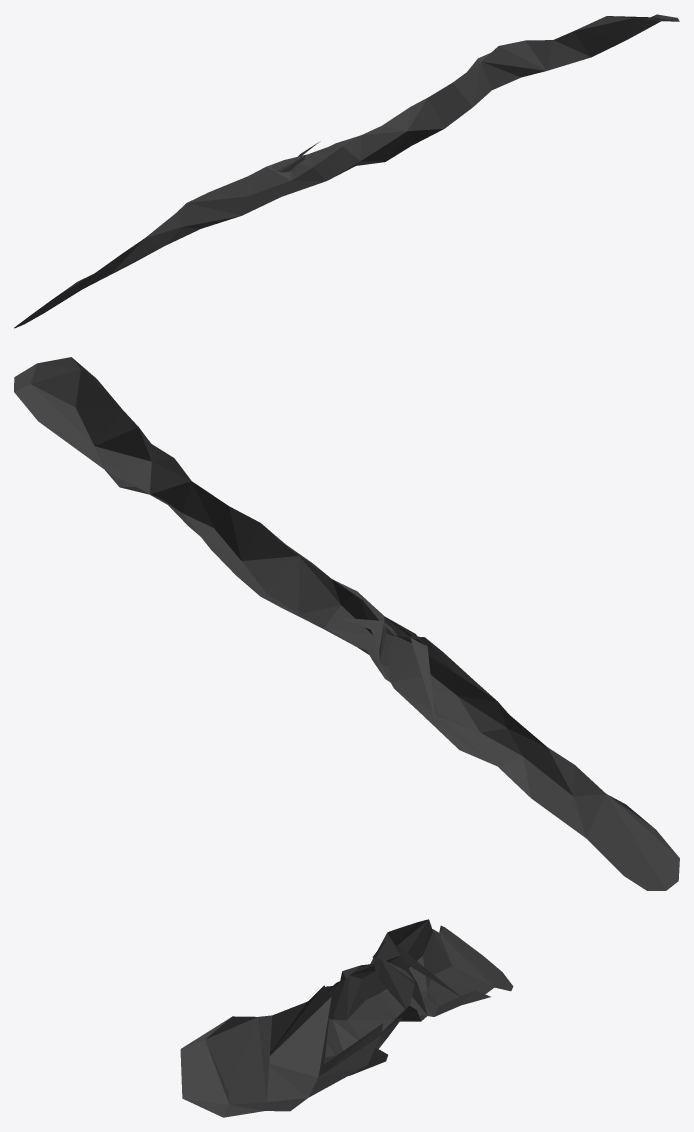
Rendered from L_sacrotuberous_L_L_sacrotuberous_L.glb.
3 renders of one model, top to bottom at view 1: azimuth 30°, elevation 25°; view 2: azimuth 150°, elevation 25°; view 3: azimuth 270°, elevation 25°, orthographic. The views are drawn at different scales.
Visible parts, largest first — view 1: L_sacrotuberous_L_L_sacrotuberous_L; view 2: L_sacrotuberous_L_L_sacrotuberous_L; view 3: L_sacrotuberous_L_L_sacrotuberous_L.
Part boxes in pixels (box(x1,y1,x2,y2)): L_sacrotuberous_L_L_sacrotuberous_L: box(14, 14, 679, 328); L_sacrotuberous_L_L_sacrotuberous_L: box(14, 357, 679, 890); L_sacrotuberous_L_L_sacrotuberous_L: box(180, 919, 513, 1117).
Size of the model in its own units: 0.0216 by 0.00808 by 0.00519.
Materials: 1 (1 with a texture image).
